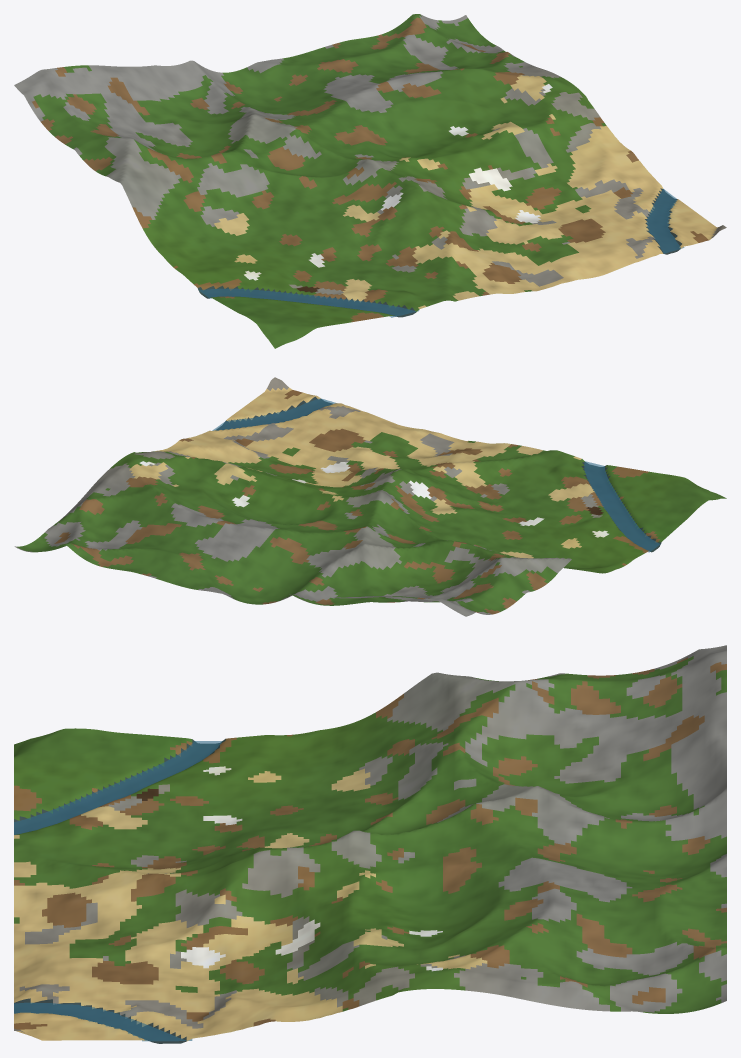
File: chunk_5_3.glb
The picture shows the model from 3 angles, top to bottom: view 1: azimuth 30°, elevation 25°; view 2: azimuth 150°, elevation 25°; view 3: azimuth 270°, elevation 25°; orthographic projection. The views are drawn at different scales.
Parts seen in each view (by area): view 1: Surface_Grass, Surface_Gravel, Surface_Sand, Surface_Dirt, Surface_Water, Water, Surface_Snow; view 2: Surface_Grass, Surface_Gravel, Surface_Sand, Surface_Dirt, Surface_Water, Water, Surface_Snow; view 3: Surface_Grass, Surface_Gravel, Surface_Sand, Surface_Dirt, Surface_Water, Water, Surface_Snow.
Boxes of the visible parts, bbox=[...] form: Surface_Grass: bbox=[33, 14, 606, 348]; Surface_Gravel: bbox=[14, 14, 726, 294]; Surface_Sand: bbox=[214, 75, 718, 308]; Surface_Dirt: bbox=[32, 17, 708, 321]; Surface_Water: bbox=[197, 188, 681, 317]; Water: bbox=[199, 189, 684, 317]; Surface_Snow: bbox=[244, 84, 552, 280]; Surface_Grass: bbox=[17, 432, 726, 613]; Surface_Gravel: bbox=[14, 377, 602, 616]; Surface_Sand: bbox=[129, 387, 594, 558]; Surface_Dirt: bbox=[54, 390, 659, 614]; Surface_Water: bbox=[216, 396, 661, 552]; Water: bbox=[212, 398, 660, 552]; Surface_Snow: bbox=[139, 461, 608, 537]; Surface_Grass: bbox=[14, 656, 726, 1013]; Surface_Gravel: bbox=[14, 645, 726, 1032]; Surface_Sand: bbox=[14, 768, 487, 1041]; Surface_Dirt: bbox=[14, 657, 726, 1029]; Surface_Water: bbox=[14, 739, 225, 1043]; Water: bbox=[14, 741, 222, 1041]; Surface_Snow: bbox=[181, 766, 442, 971].
Bounding box in the file's own units: 256 × 47.62 × 256.
